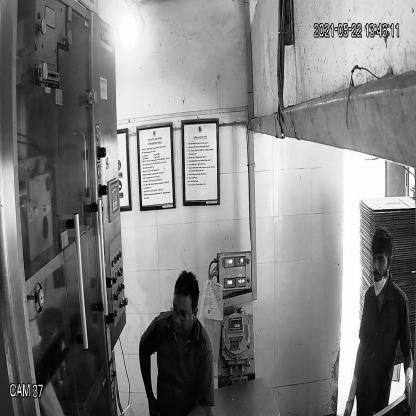goggles: (167, 301, 196, 324)
no_goggles: (370, 251, 392, 267)
